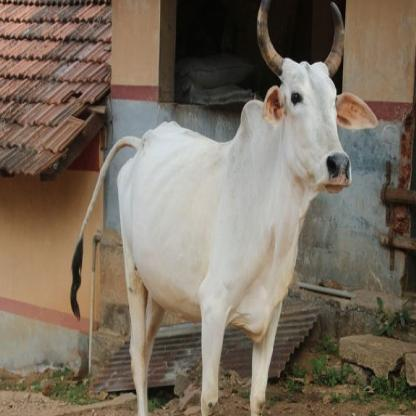cow: (113, 0, 352, 416)
